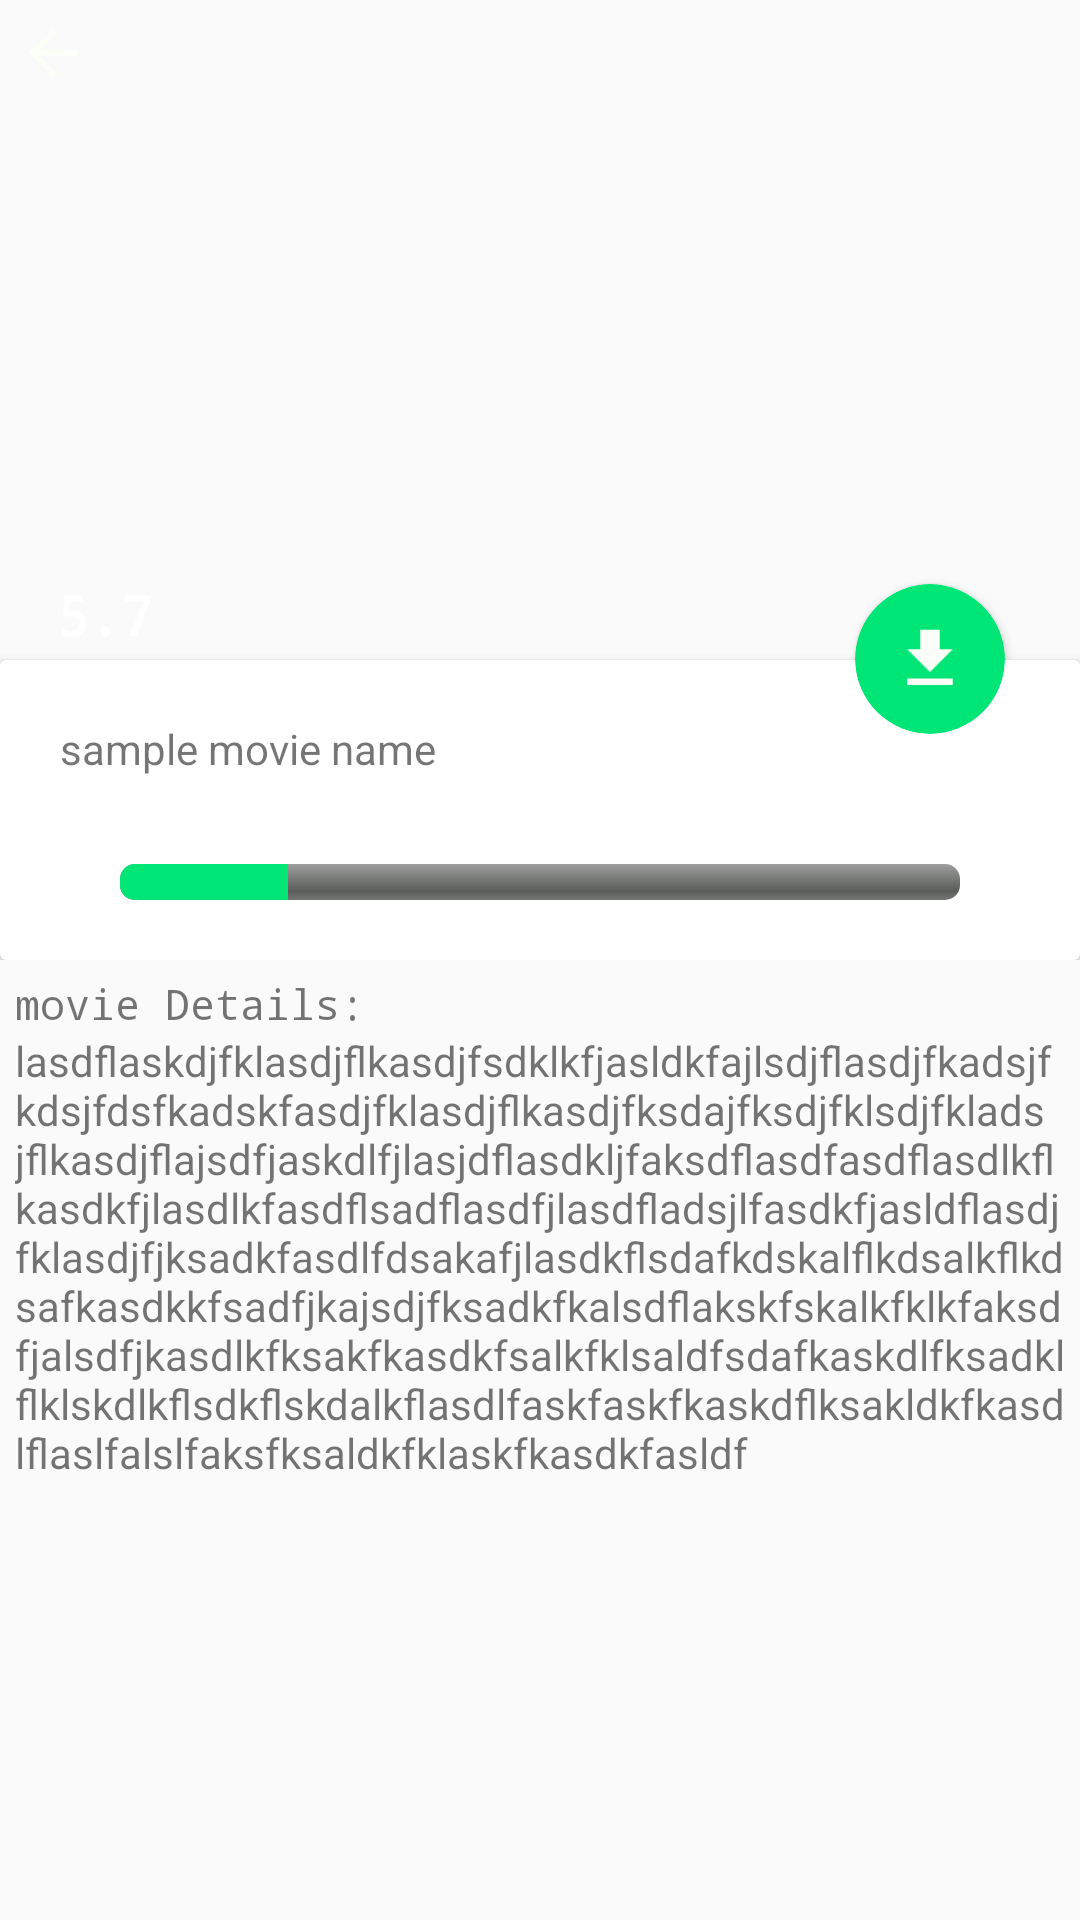

Named icons in this screenshot (1080 × 1920) and their centers, (x,y):
download: (930,659)
